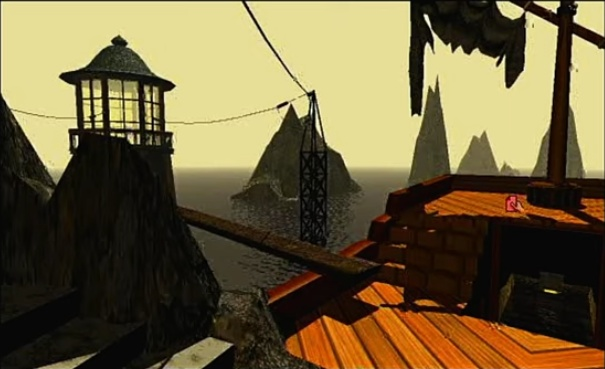Keep: (503, 193, 529, 217)
